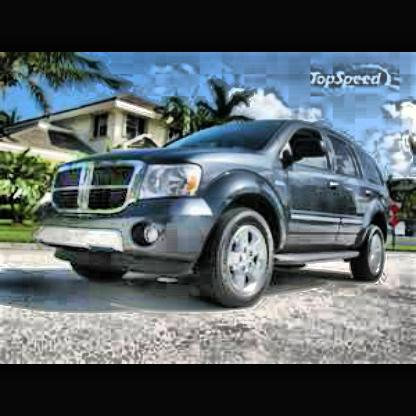Dodge Durango SUV 2007: (37, 121, 401, 310)
